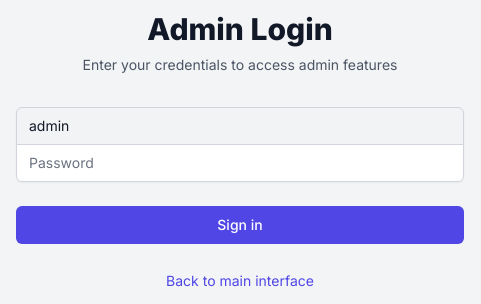
AdminLogin › when not authenticated › should show loading state during submission
The width and height of the screenshot is (481, 304).
Expected: the button "Sign in" is shown, [16,206,464,244]
Type "test-api-key" into the password field with placeholder "Password". click: (240, 162)
box: [16,144,464,182]
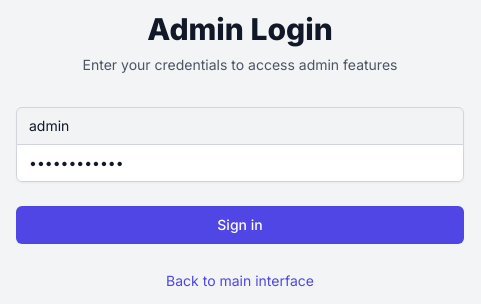
Click the button "Sign in". click: (240, 224)
box: [16,206,464,244]
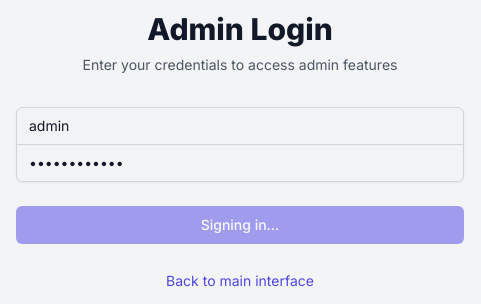
Result: the button "Signing in..." is disabled at [16,206,464,244]
